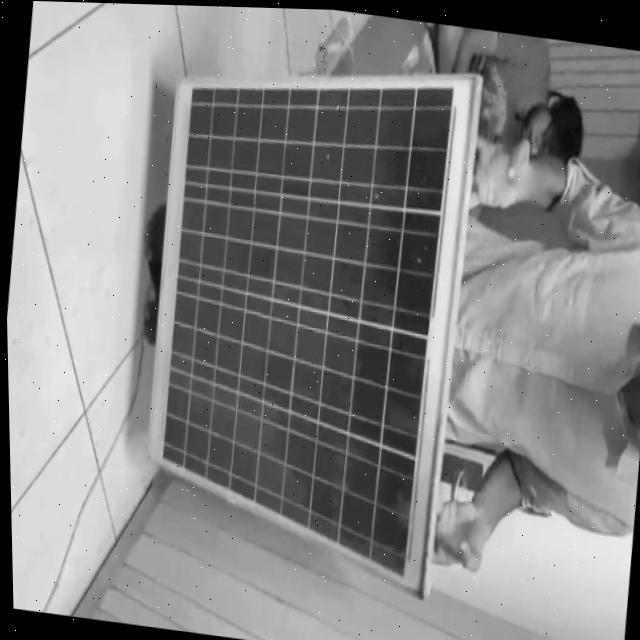Normal Solar Panel: (134, 36, 482, 588)
